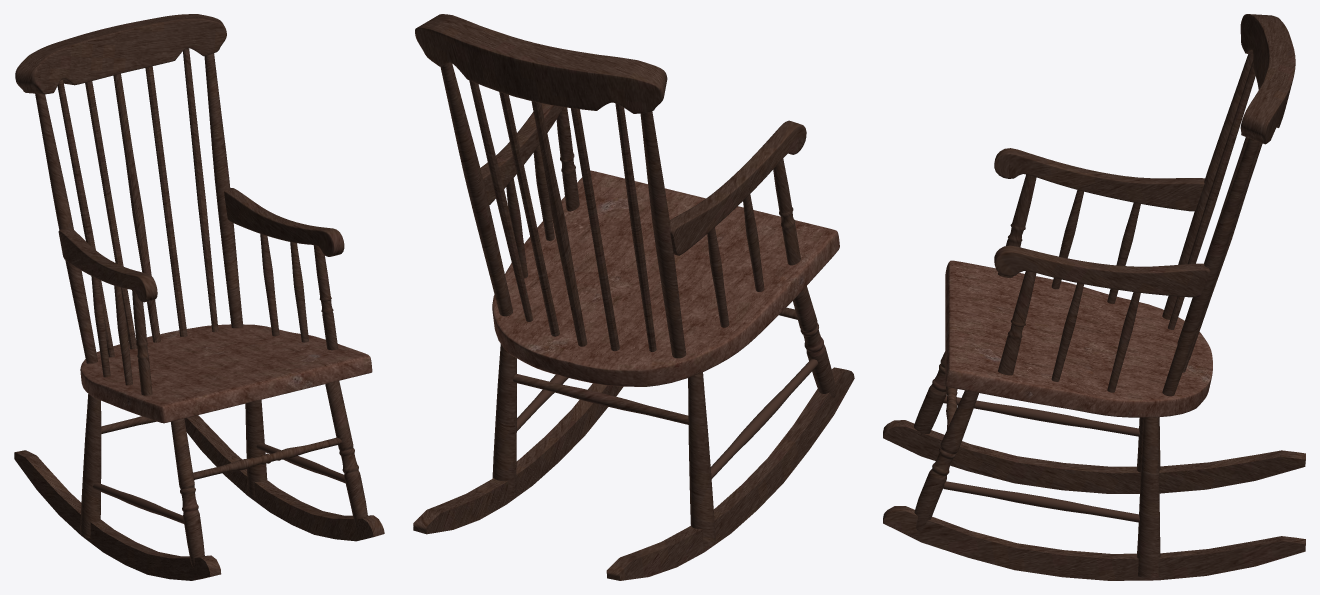
3 views of the same model, side by side, from view 1: azimuth 30°, elevation 25°; view 2: azimuth 150°, elevation 25°; view 3: azimuth 270°, elevation 25° (orthographic). The views are drawn at different scales.
Parts seen in each view (by area): view 1: PilierHautAvantDroit2; view 2: PilierHautAvantDroit2; view 3: PilierHautAvantDroit2.
Part boxes in pixels (x1=…): PilierHautAvantDroit2: x1=14, y1=14, x2=384, y2=580; PilierHautAvantDroit2: x1=413, y1=14, x2=854, y2=580; PilierHautAvantDroit2: x1=883, y1=14, x2=1305, y2=580.
Size of the model in its own units: 0.6164 by 1.24 by 0.9914.
1 material, 1 textured.
